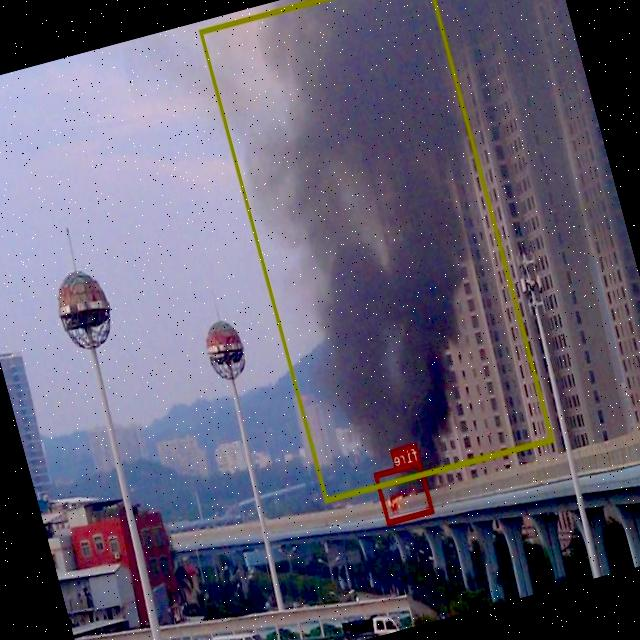fire: (374, 459, 435, 524)
smoke: (198, 0, 553, 500)
